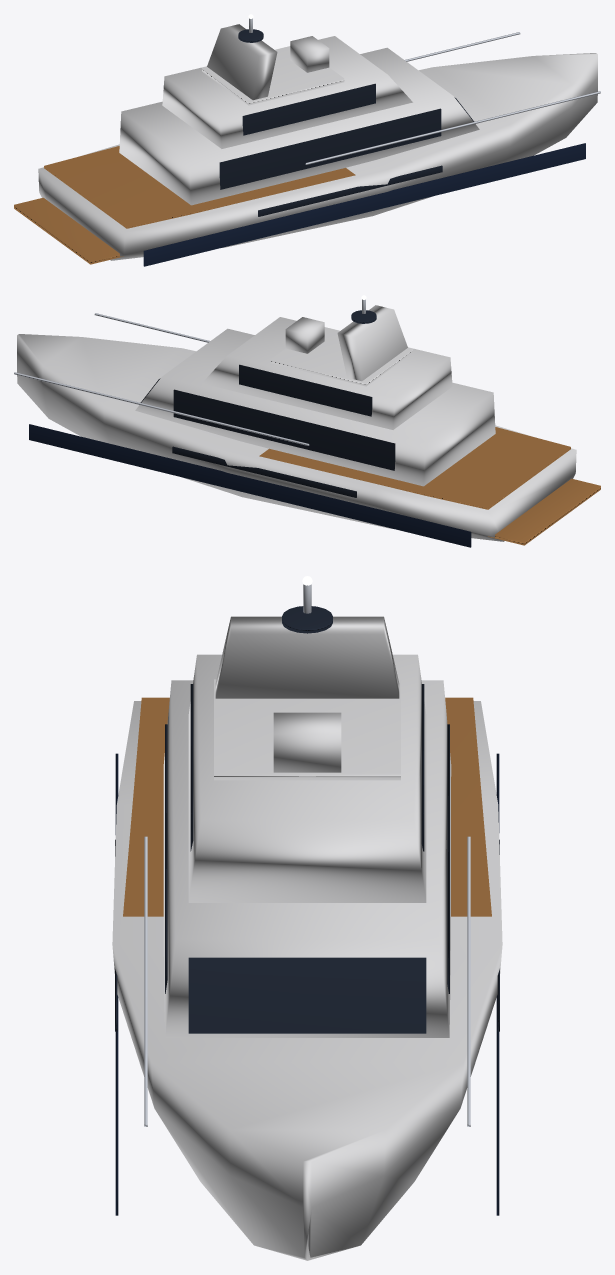
Rendered from yacht.glb.
3 views of the same model, one above another, from view 1: azimuth 30°, elevation 25°; view 2: azimuth 150°, elevation 25°; view 3: azimuth 270°, elevation 25° (orthographic). The views are drawn at different scales.
Visible parts, largest first — view 1: body; view 2: body; view 3: body.
Part boxes in pixels (box(x1,y1,x2,y2)): body: box(14, 14, 600, 266); body: box(14, 295, 600, 547); body: box(112, 576, 502, 1260).
Bounding box in the file's own units: 148 × 56.6 × 45.9.
